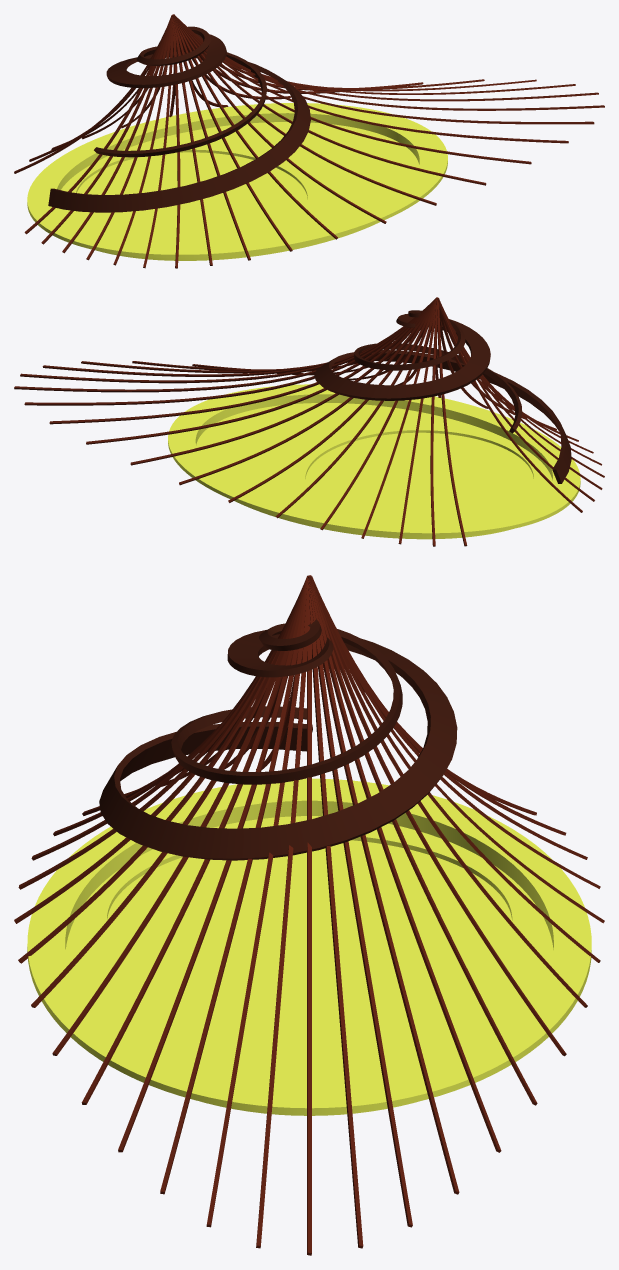
The picture shows the model from 3 angles, top to bottom: view 1: azimuth 30°, elevation 25°; view 2: azimuth 150°, elevation 25°; view 3: azimuth 270°, elevation 25°; orthographic projection. The views are drawn at different scales.
Parts seen in each view (by area): view 1: Cylinder001, Helix002, Helix001, Arc004, Arc003, Arc005, Arc002, Arc006, Arc001, Arc007, Arc008, Arc009 (+14 smaller); view 2: Cylinder001, Helix002, Helix001, Arc023, Arc022, Arc024, Arc025, Arc001, Arc026, Arc027, Arc002, Arc028 (+12 smaller); view 3: Cylinder001, Helix002, Helix001, Arc022, Arc023, Arc024, Arc002, Arc004, Arc003, Arc001, Arc025, Arc005 (+14 smaller).
Boxes of the visible parts, x1=… form: Cylinder001: x1=27, y1=103, x2=447, y2=260; Helix002: x1=48, y1=34, x2=310, y2=212; Helix001: x1=94, y1=26, x2=266, y2=157; Arc004: x1=174, y1=15, x2=568, y2=143; Arc003: x1=176, y1=17, x2=594, y2=124; Arc005: x1=174, y1=15, x2=531, y2=164; Arc002: x1=174, y1=15, x2=604, y2=110; Arc006: x1=174, y1=16, x2=486, y2=185; Arc001: x1=175, y1=15, x2=598, y2=101; Arc007: x1=174, y1=16, x2=436, y2=205; Arc008: x1=173, y1=15, x2=386, y2=223; Arc009: x1=173, y1=16, x2=337, y2=239; Cylinder001: x1=168, y1=384, x2=580, y2=539; Helix002: x1=314, y1=314, x2=571, y2=483; Helix001: x1=354, y1=310, x2=522, y2=433; Arc023: x1=24, y1=301, x2=433, y2=405; Arc022: x1=14, y1=300, x2=434, y2=392; Arc024: x1=49, y1=299, x2=434, y2=424; Arc025: x1=86, y1=300, x2=433, y2=444; Arc001: x1=20, y1=320, x2=410, y2=383; Arc026: x1=130, y1=299, x2=434, y2=465; Arc027: x1=179, y1=301, x2=433, y2=485; Arc002: x1=42, y1=354, x2=353, y2=376; Arc028: x1=228, y1=299, x2=437, y2=502; Cylinder001: x1=27, y1=778, x2=591, y2=1115; Helix002: x1=99, y1=630, x2=457, y2=860; Helix001: x1=171, y1=619, x2=402, y2=784; Arc022: x1=308, y1=577, x2=363, y2=1248; Arc023: x1=308, y1=577, x2=412, y2=1227; Arc024: x1=308, y1=577, x2=459, y2=1194; Arc002: x1=256, y1=577, x2=311, y2=1248; Arc004: x1=160, y1=576, x2=307, y2=1194; Arc003: x1=206, y1=578, x2=311, y2=1227; Arc001: x1=307, y1=577, x2=311, y2=1255; Arc025: x1=309, y1=576, x2=501, y2=1152; Arc005: x1=118, y1=577, x2=306, y2=1152.
Bounding box in the file's own units: 6.9 × 2.22 × 3.54.
